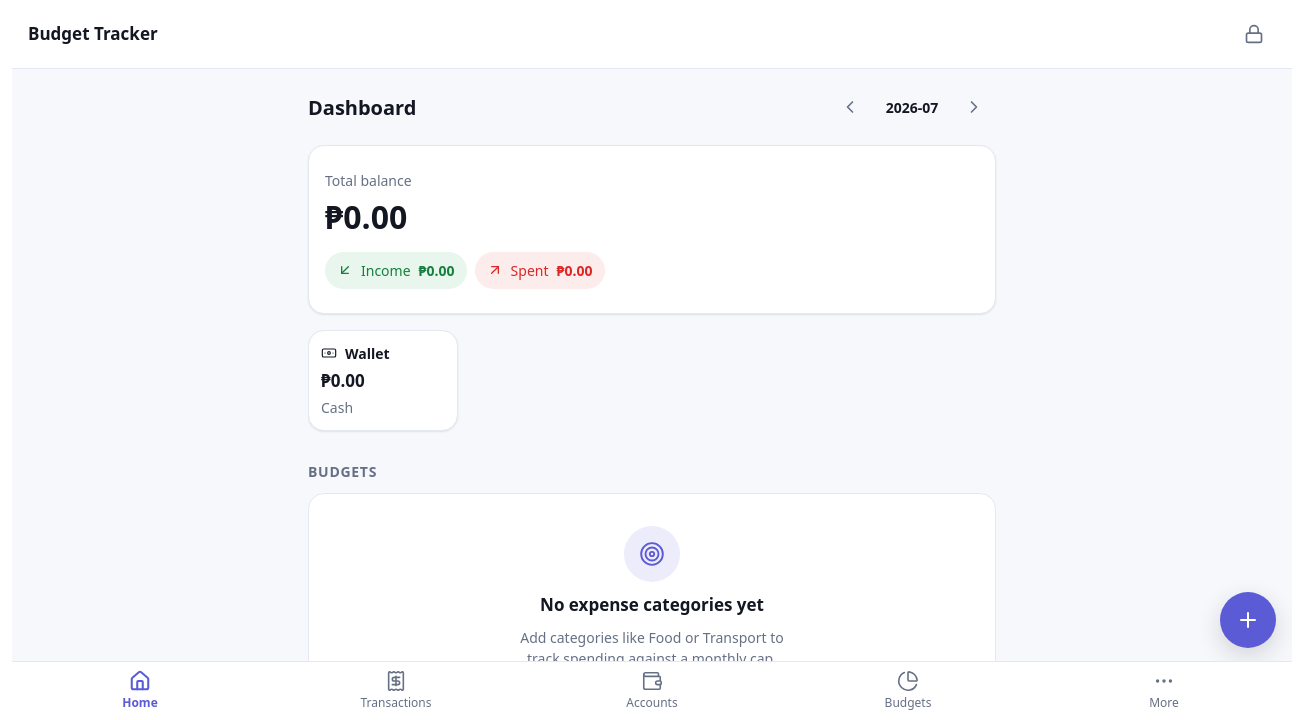
Scenario: bottom navigation › the quick-add button jumps to Transactions and opens the form
The width and height of the screenshot is (1304, 720).
Expected: the button named "Lock" is shown, [1232,12,1276,56]
Click the button named "Quick add transaction" at (1248, 620), box [1220,592,1276,648]
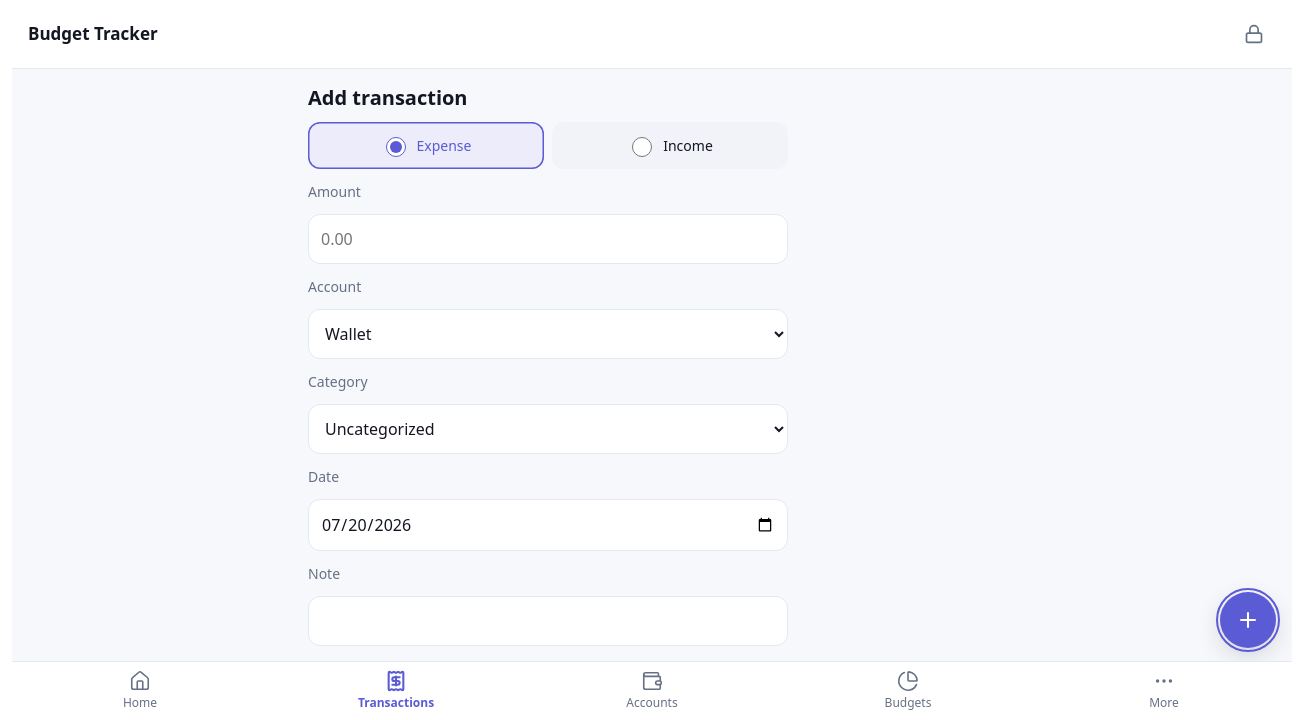
Result: the field labelled "Amount" is shown at [308,214,788,264]
